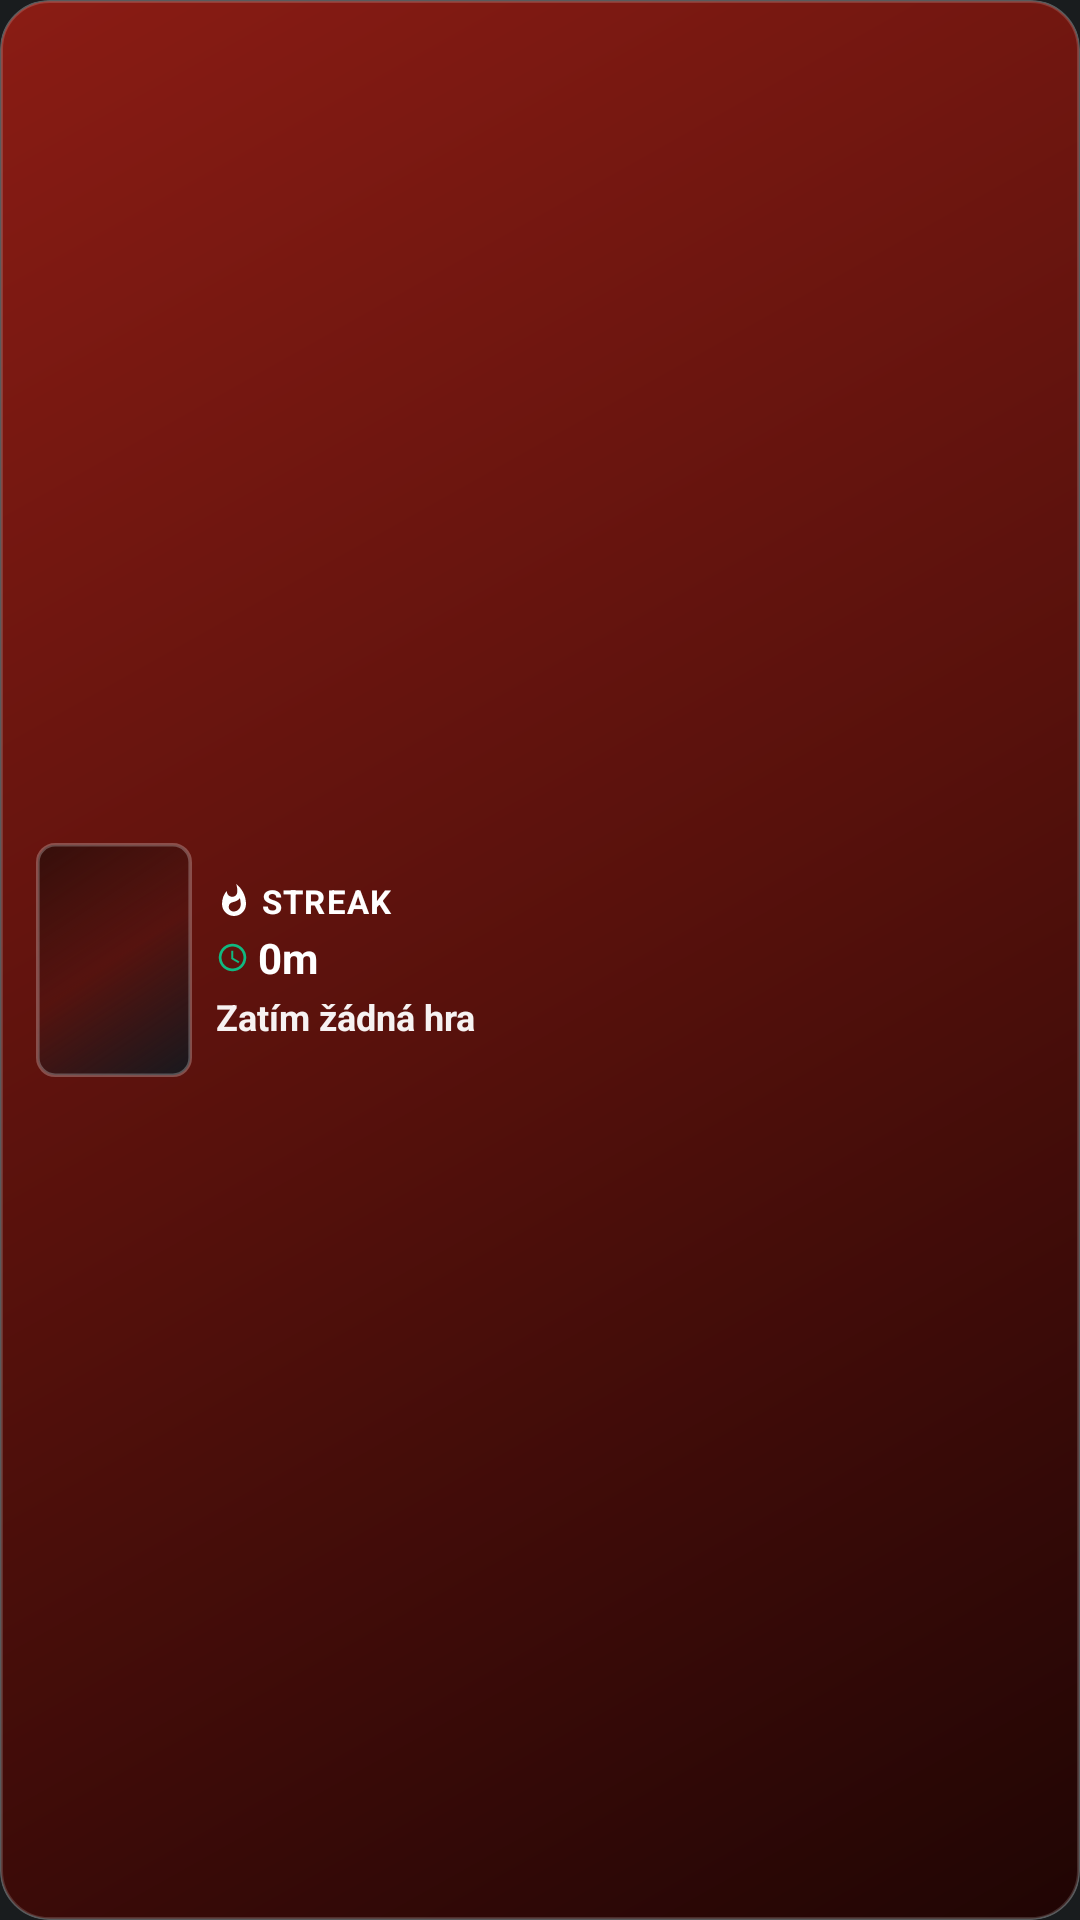

Screen size 1080px x 1920px. Icon name, then its box in pixels as box(x1, y1, x2, y2):
widget clock: box(218, 943, 247, 972)
